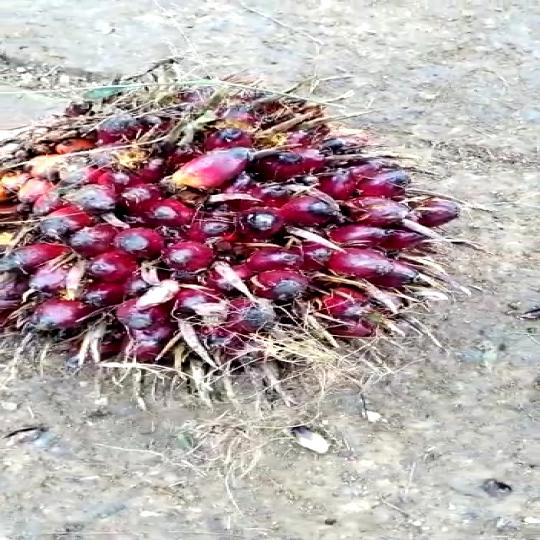kurang masak: (0, 48, 459, 403)
